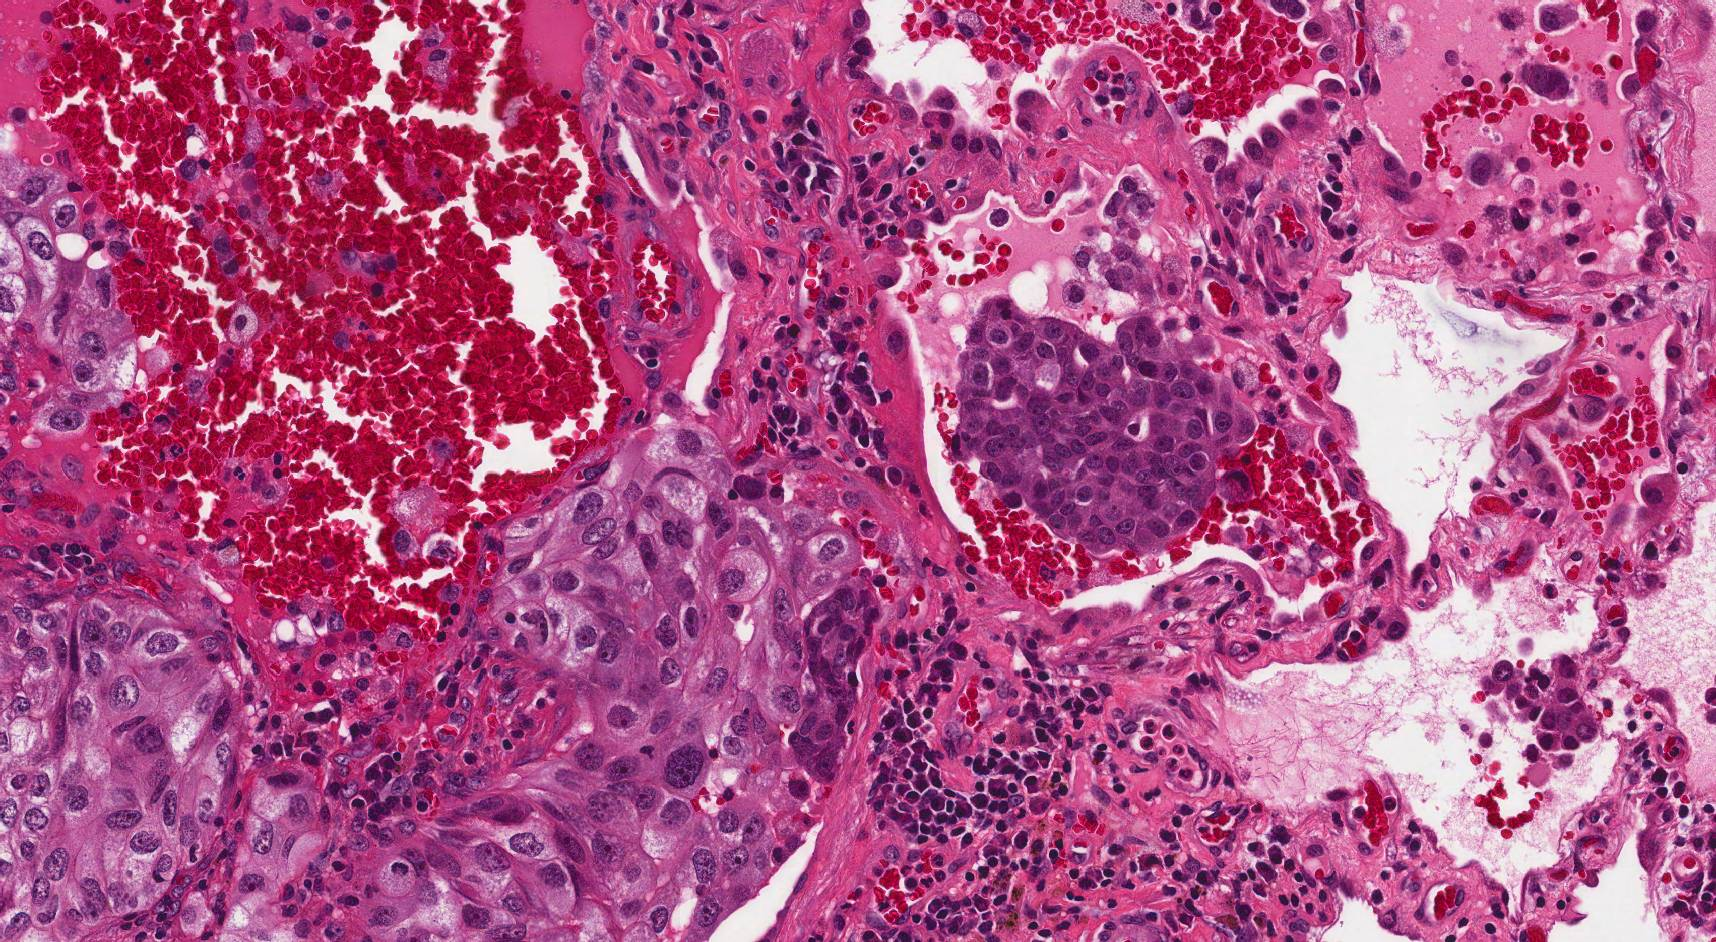stas: (950, 296, 1258, 554), (1479, 654, 1602, 756)
